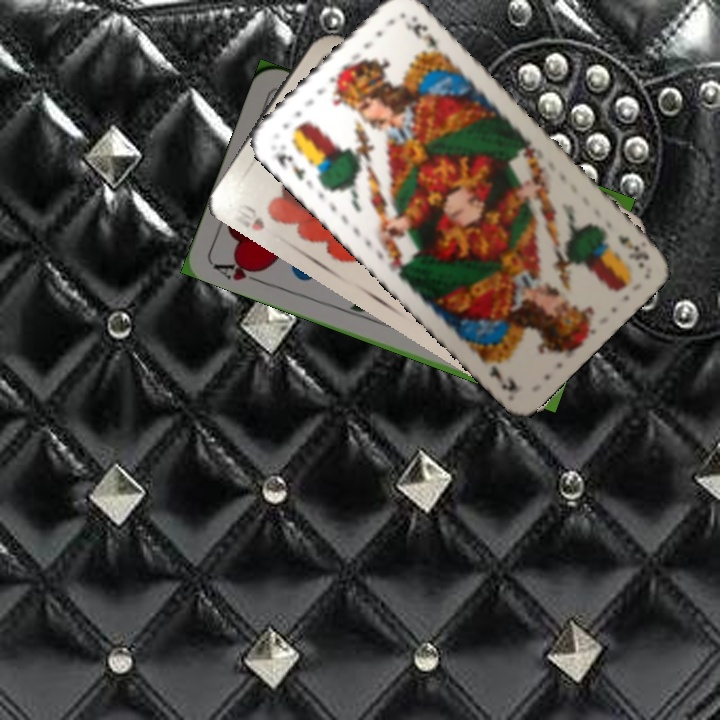EK: (614, 231, 652, 269), (273, 148, 308, 184)
H10: (230, 199, 268, 234)
HA: (209, 255, 267, 287)
